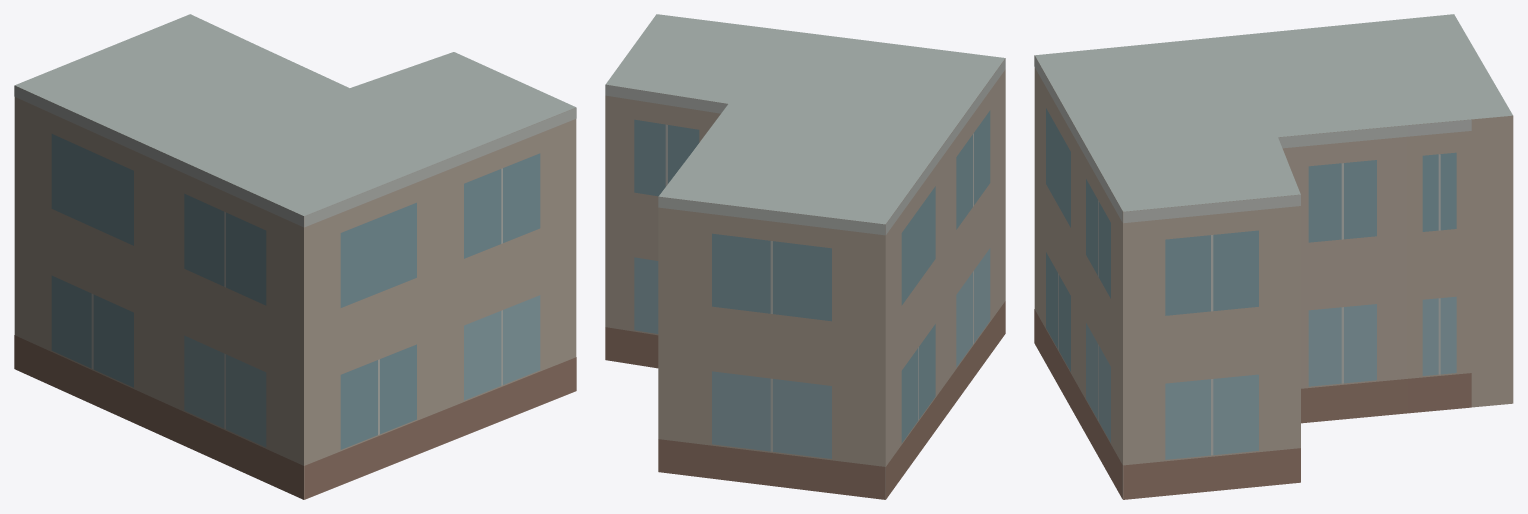
Rendered from survey-upis-32572308.glb.
3 views of the same model, side by side, from view 1: azimuth 30°, elevation 25°; view 2: azimuth 150°, elevation 25°; view 3: azimuth 270°, elevation 25° (orthographic). The views are drawn at different scales.
Visible parts, largest first — view 1: survey-upis-32572308.tmp; view 2: survey-upis-32572308.tmp; view 3: survey-upis-32572308.tmp.
Part boxes in pixels (box(x1,y1,x2,y2)): survey-upis-32572308.tmp: box(14, 14, 576, 499); survey-upis-32572308.tmp: box(605, 14, 1005, 499); survey-upis-32572308.tmp: box(1034, 14, 1513, 499).
Bounding box in the file's own units: 8.99 × 6.1 × 9.2.
